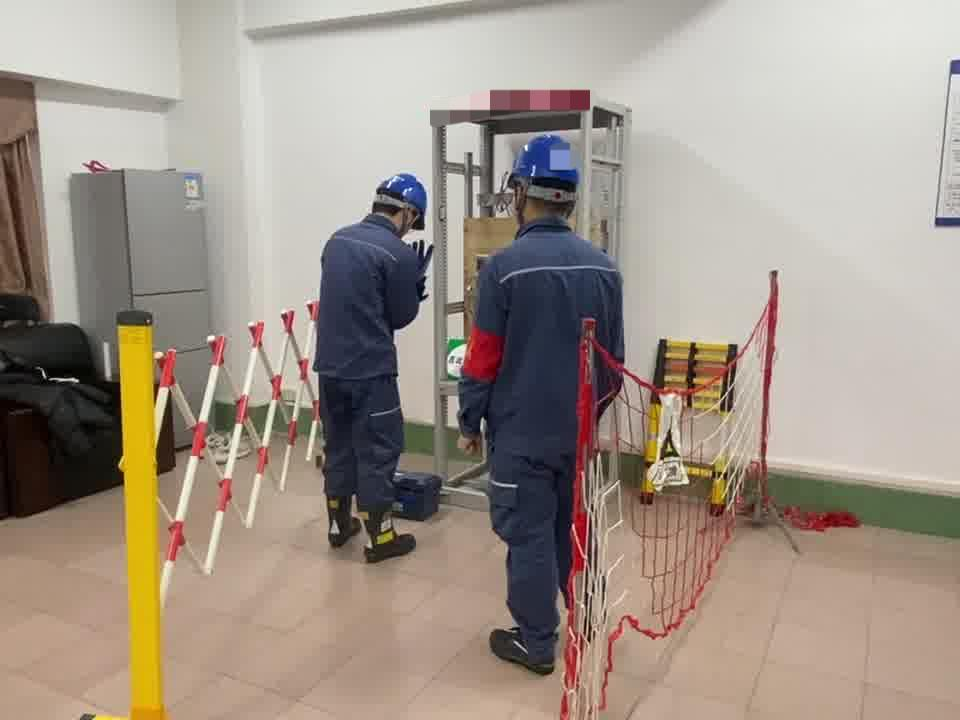halt: (510, 134, 587, 225), (376, 174, 432, 233)
inear: (509, 185, 535, 222), (400, 205, 419, 231)
